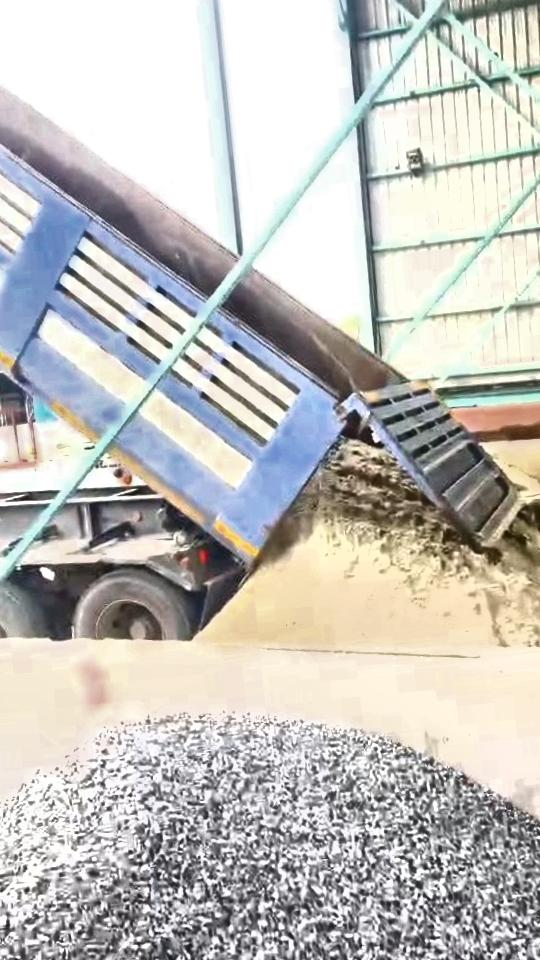gravel: (0, 714, 540, 960)
sand: (203, 441, 540, 646), (489, 437, 540, 489)
